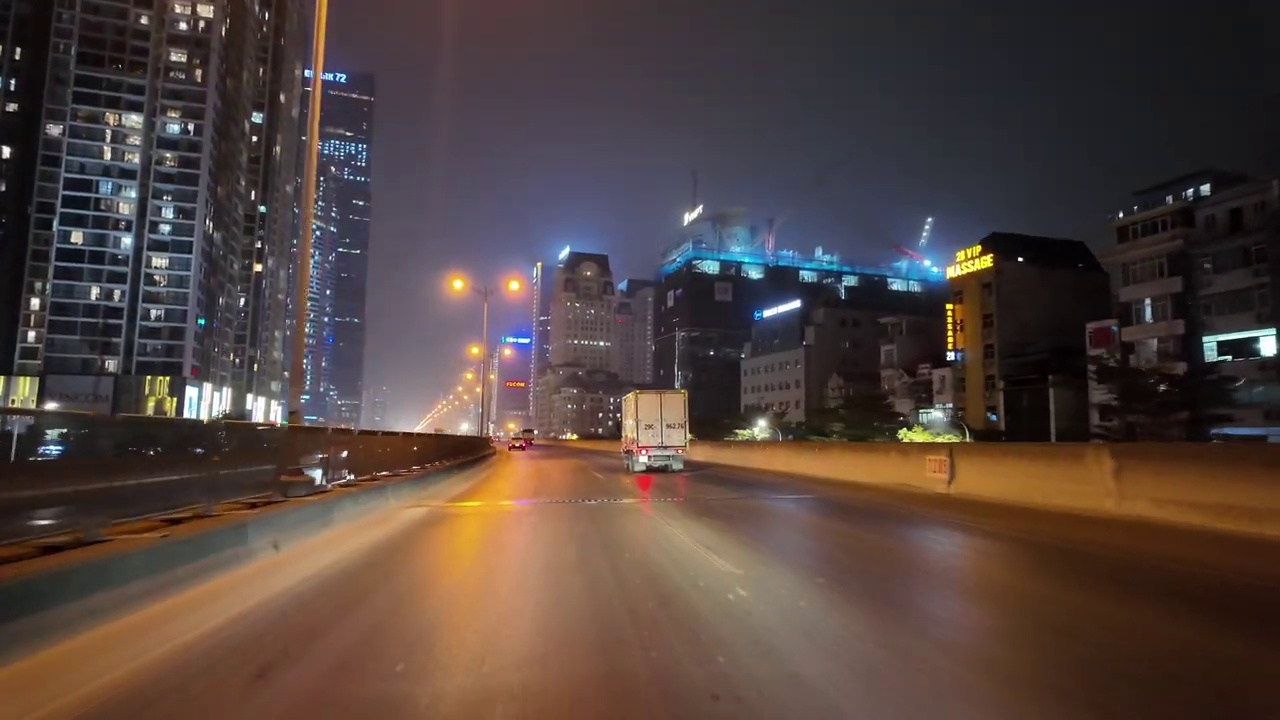acesa: (442, 270, 471, 299), (500, 274, 527, 299)
